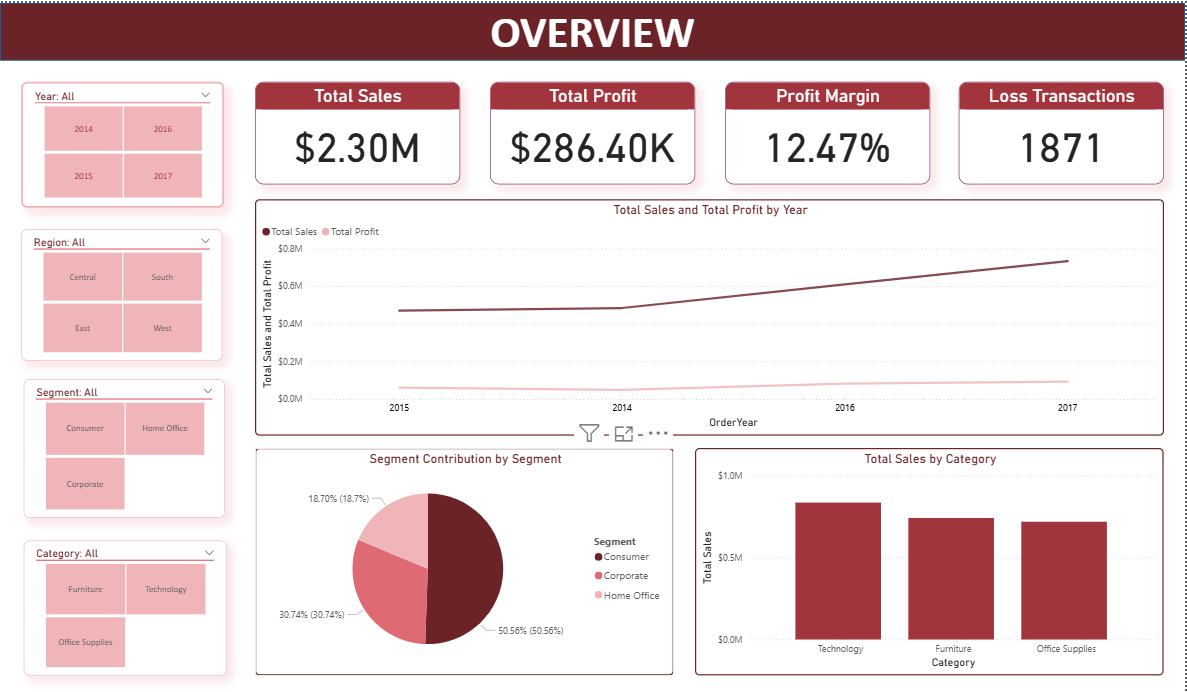

What the dashboard file says about the page in this screenshot:
{"tool":"powerbi","page":{"name":"Overview","canvas":[1580,920],"ordinal":0},"visuals":[{"type":"slicer","fields":{"Values":["Dim_Date.OrderYear"]},"box":[28,105.7,270,168.3],"z":0},{"type":"slicer","fields":{"Values":["Dim_Geography.Region"]},"box":[28,302.3,268.3,175],"z":1000},{"type":"slicer","fields":{"Values":["Dim_Customer.Segment"]},"box":[31.3,502.3,268.3,185],"z":2000},{"type":"slicer","fields":{"Values":["Dim_Product.Category"]},"box":[31.3,717.3,270,180],"z":3000},{"type":"card","title":"Total Sales","fields":{"Values":["Fact_Sales.Total Sales"]},"box":[340,105,273.3,136.7],"z":4000},{"type":"card","title":"Total Profit","fields":{"Values":["Fact_Sales.Total Profit"]},"box":[653.3,104.3,273.3,136.7],"z":5000},{"type":"card","title":"Profit Margin","fields":{"Values":["Fact_Sales.Profit Margin"]},"box":[966.7,104.3,273.3,136.7],"z":6000},{"type":"card","title":"Loss Transactions","fields":{"Values":["Fact_Sales.Loss Transactions"]},"box":[1278.3,104.3,273.3,136.7],"z":7000},{"type":"lineChart","title":"Total Sales and Total Profit by Year","fields":{"Category":["Dim_Date.OrderYear"],"Y":["Fact_Sales.Total Sales","Fact_Sales.Total Profit"]},"box":[340,261.7,1211.7,315],"z":8000},{"type":"pieChart","fields":{"Category":["Dim_Customer.Segment"],"Y":["Fact_Sales.Segment Contribution"]},"box":[340,593.3,558.3,303.3],"z":9000},{"type":"clusteredColumnChart","fields":{"Category":["Dim_Product.Category"],"Y":["Fact_Sales.Total Sales"]},"box":[926.7,593.3,625,303.3],"z":10000},{"type":"shape","box":[0,0,1580,76.7],"z":11000}]}

Visuals, with their boxes in screenshot pixels (x1, y1, x2, y2), scaled from the page's 1580x920 canvas onto the 1187x692 screenshot:
slicer - Dim_Date.OrderYear: 21 80 224 206
slicer - Dim_Geography.Region: 21 227 223 359
slicer - Dim_Customer.Segment: 24 378 225 517
slicer - Dim_Product.Category: 24 540 226 675
"Total Sales" card: 255 79 461 182
"Total Profit" card: 491 78 696 181
"Profit Margin" card: 726 78 932 181
"Loss Transactions" card: 960 78 1166 181
"Total Sales and Total Profit by Year" lineChart: 255 197 1166 434
pieChart - Dim_Customer.Segment x Fact_Sales.Segment Contribution: 255 446 675 674
clusteredColumnChart - Dim_Product.Category x Fact_Sales.Total Sales: 696 446 1166 674
shape: 0 0 1186 58
